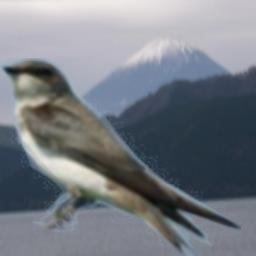Swallow: (0, 58, 241, 256)
